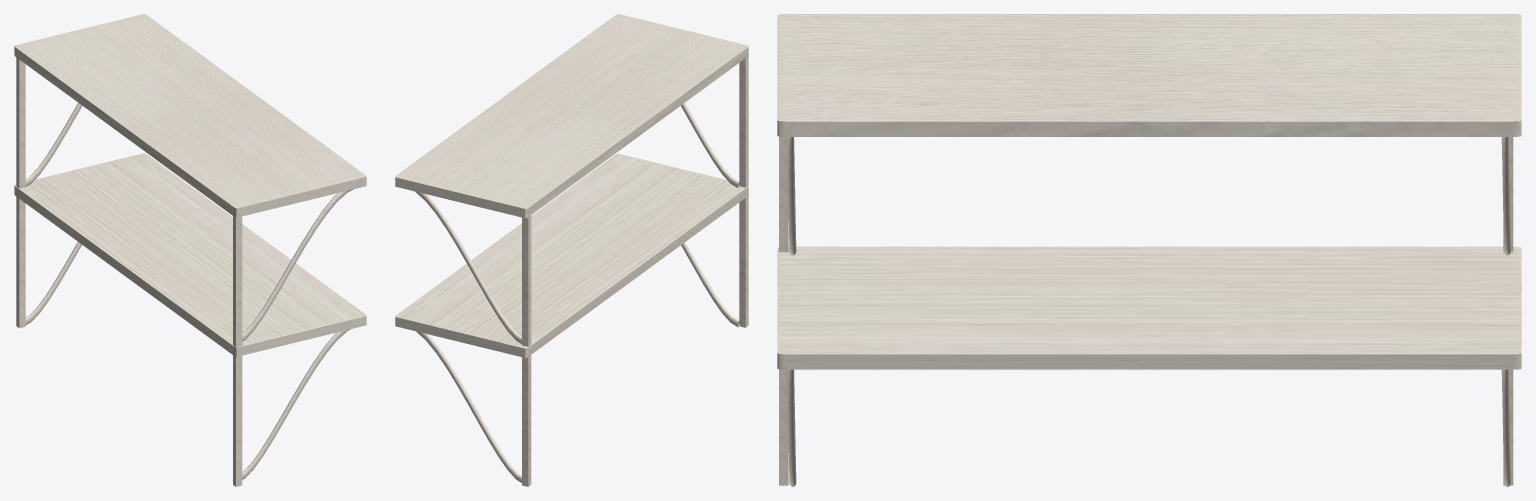
The model's file is hylla2.fbx.
3 views of the same model, side by side, from view 1: azimuth 30°, elevation 25°; view 2: azimuth 150°, elevation 25°; view 3: azimuth 270°, elevation 25° (orthographic). The views are drawn at different scales.
Parts seen in each view (by area): view 1: Cube.003, Cube, Cube.001, Cube.007, Cube.004, Cube.006, BezierCurve.005, BezierCurve.003, BezierCurve.004, BezierCurve.002; view 2: Cube.003, Cube, Cube.004, Cube.006, Cube.001, Cube.007, BezierCurve.004, BezierCurve.002, BezierCurve.005, BezierCurve.003; view 3: Cube, Cube.003, Cube.001, Cube.007, BezierCurve.004, BezierCurve.005, BezierCurve.003, BezierCurve.002.
Boxes of the visible parts, x1,y1,x2,y2 form: Cube.003: (14, 14, 366, 217); Cube: (14, 153, 366, 356); Cube.001: (233, 355, 242, 486); Cube.007: (233, 216, 242, 347); Cube.004: (16, 197, 25, 328); Cube.006: (16, 57, 25, 188); BezierCurve.005: (242, 189, 353, 341); BezierCurve.003: (242, 329, 350, 479); BezierCurve.004: (25, 103, 82, 186); BezierCurve.002: (25, 242, 81, 324); Cube.003: (395, 14, 748, 218); Cube: (395, 153, 748, 357); Cube.004: (522, 355, 531, 486); Cube.006: (522, 215, 531, 346); Cube.001: (739, 195, 748, 327); Cube.007: (739, 56, 748, 187); BezierCurve.004: (414, 191, 521, 343); BezierCurve.002: (416, 331, 521, 482); BezierCurve.005: (681, 103, 740, 187); BezierCurve.003: (681, 242, 740, 327); Cube: (777, 246, 1521, 369); Cube.003: (777, 14, 1521, 136); Cube.001: (779, 369, 788, 485); Cube.007: (779, 136, 788, 252); BezierCurve.004: (1501, 137, 1510, 255); BezierCurve.005: (787, 137, 796, 255); BezierCurve.003: (787, 369, 796, 486); BezierCurve.002: (1501, 369, 1510, 486).
Bounding box in the file's own units: 51.29 × 104 × 150.
